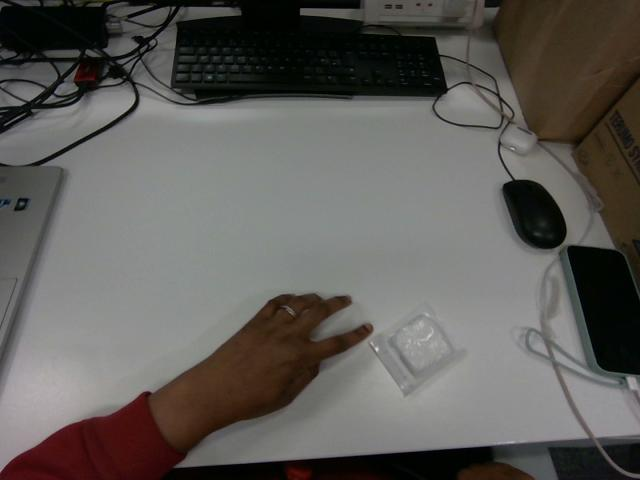gauze: (369, 304, 456, 395)
